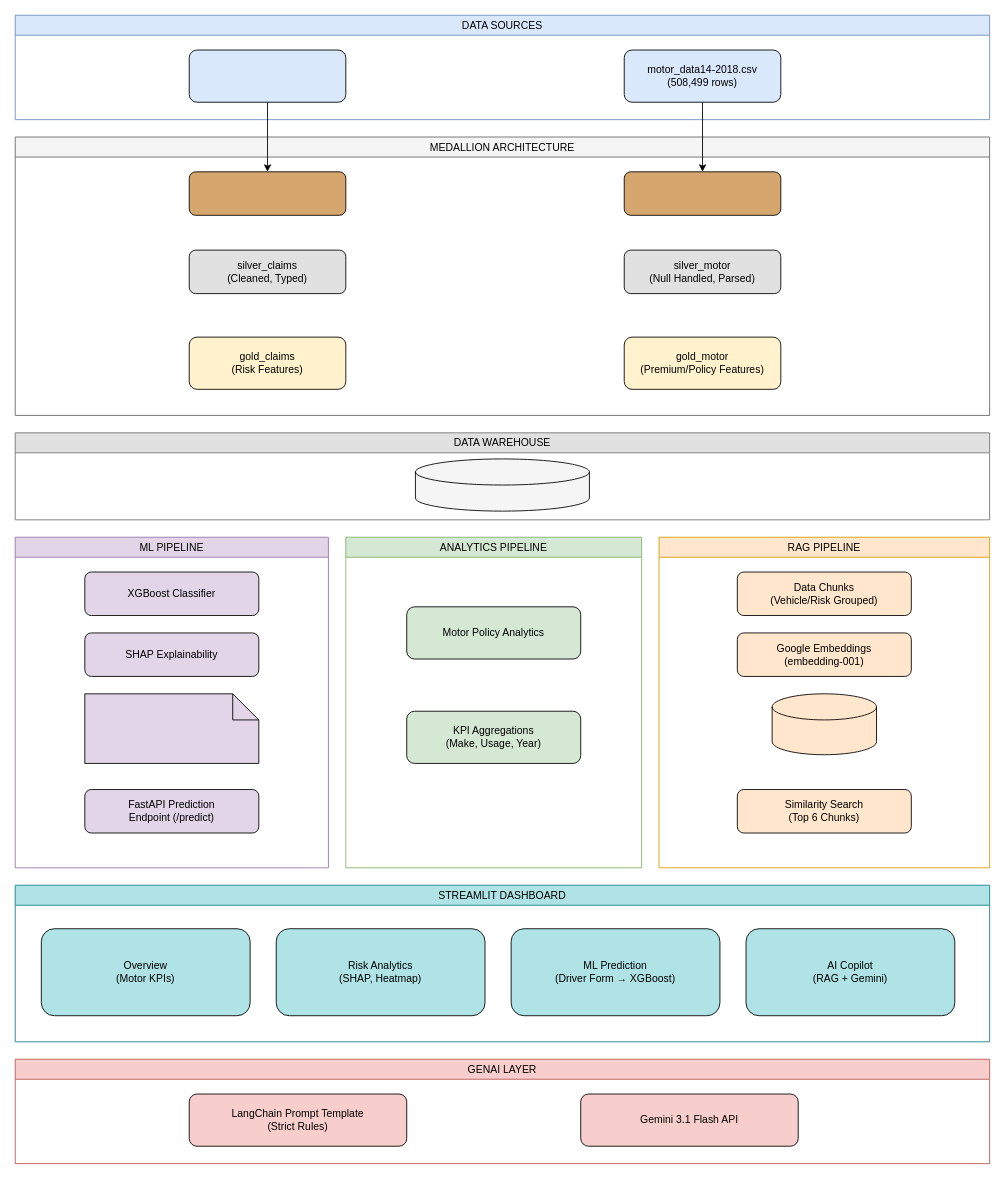
The diagram is 1005 pixels wide and 1179 high, and some of its shapes have lost their labels. The centre of each missing label's shape, as x and y in pixels:
Artifacts: claim_model.pkl, shap_explainer.pkl, metrics.json: pixel 171 728
bronze_claims: pixel 267 193
bronze_motor: pixel 702 193
Car_Insurance_Claim.csv (10,000 rows): pixel 267 75
DuckDB (insurance.db) Stores all 6 Tables: pixel 502 484
FAISS Vector Store (genai/vectorstore): pixel 824 724
